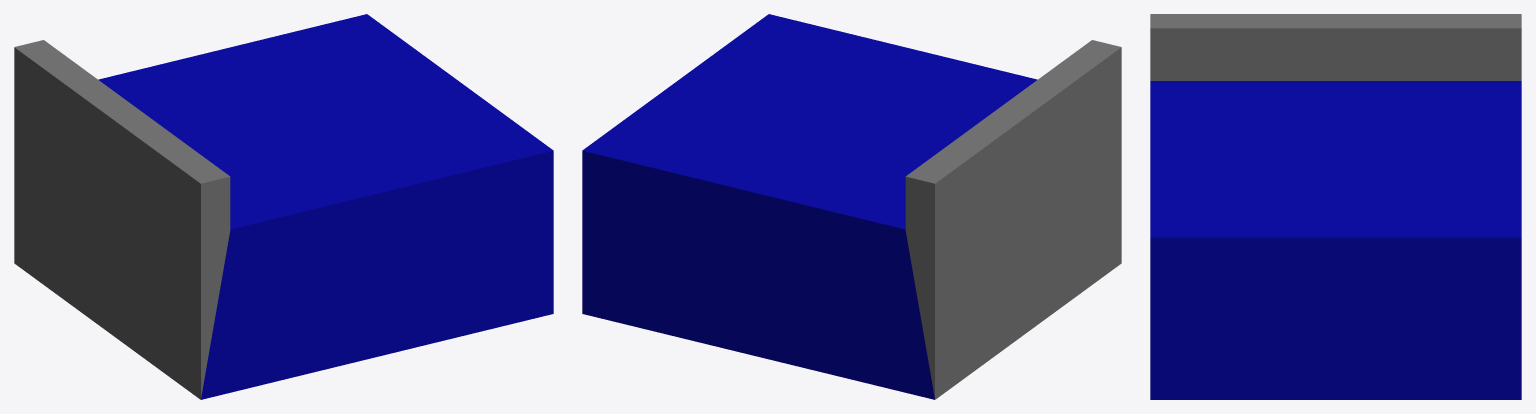
File: sea1.fbx
3 views of the same model, side by side, from view 1: azimuth 30°, elevation 25°; view 2: azimuth 150°, elevation 25°; view 3: azimuth 270°, elevation 25° (orthographic).
Visible parts, largest first — view 1: sea; view 2: sea; view 3: sea.
Boxes of the visible parts, <box> form: sea: <box>14,14,553,399</box>; sea: <box>582,14,1121,399</box>; sea: <box>1150,14,1521,399</box>.
Size of the model in its own units: 6.36 by 3.72 by 5.83.
